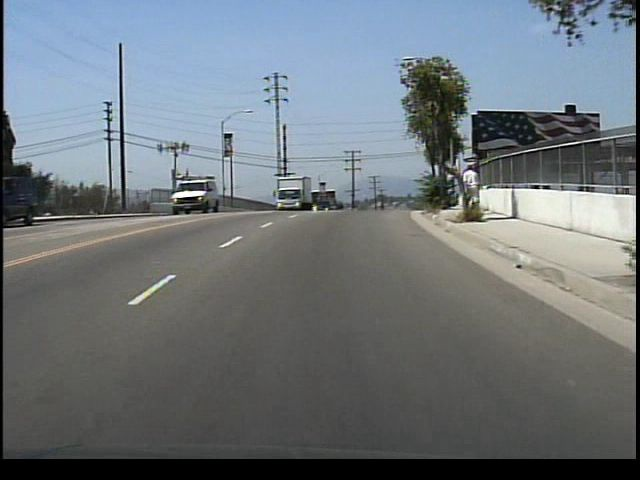person: (458, 162, 483, 220)
